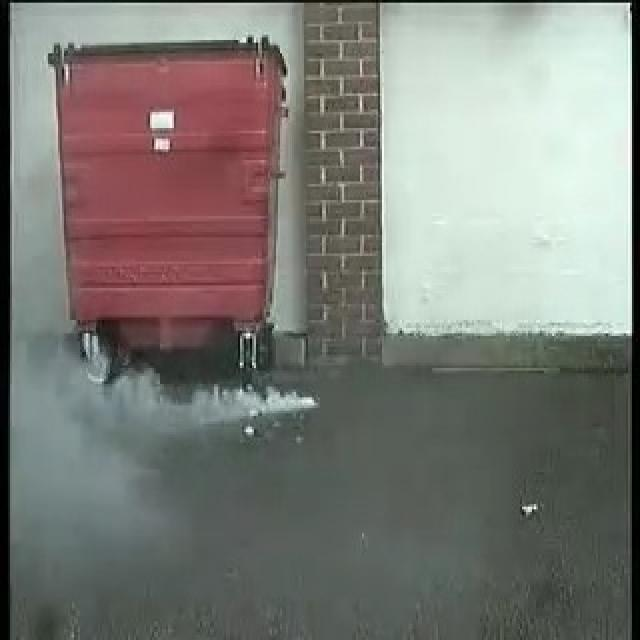smoke: (108, 360, 317, 460)
